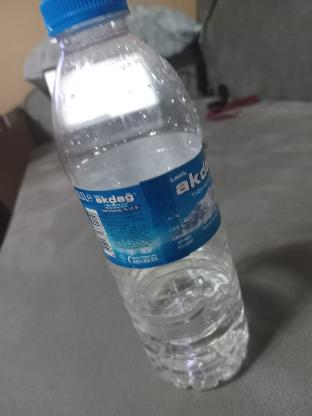Plastic Bottle: (33, 0, 271, 392)
